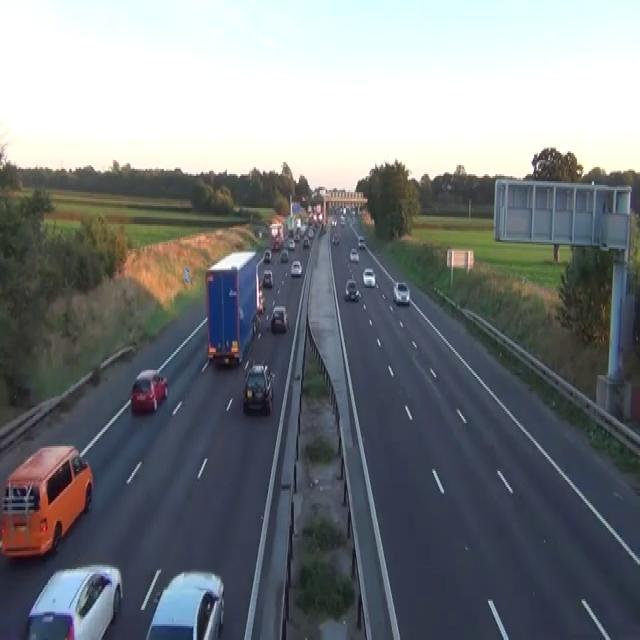Car: (0, 443, 93, 560), (25, 564, 123, 638), (145, 569, 224, 638), (242, 361, 274, 414), (130, 368, 168, 412), (270, 304, 288, 332), (393, 281, 410, 304), (344, 279, 360, 301), (362, 267, 375, 286), (262, 268, 273, 288), (290, 260, 302, 276), (257, 290, 265, 314), (252, 313, 260, 334), (271, 234, 281, 250), (349, 247, 359, 261), (357, 235, 365, 249), (263, 249, 271, 263), (280, 249, 288, 261), (270, 224, 278, 236), (287, 238, 295, 249), (331, 233, 339, 243), (300, 196, 307, 206), (293, 231, 299, 242), (302, 238, 309, 247), (340, 215, 345, 226), (321, 222, 326, 233), (331, 217, 337, 226), (296, 217, 301, 227), (308, 228, 314, 236), (288, 228, 293, 236), (258, 230, 262, 238)
Truck: (205, 249, 259, 366), (269, 220, 283, 250)
